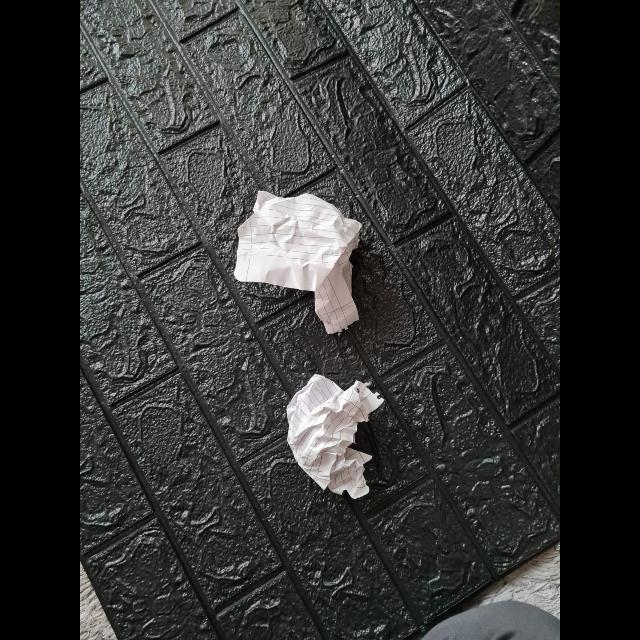scrap_paper: (238, 190, 366, 328), (284, 370, 386, 498)
